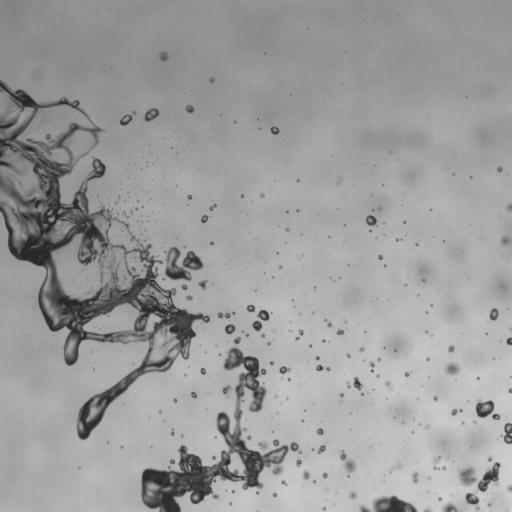droplet: (457, 462, 500, 511), (475, 398, 500, 420), (340, 451, 355, 474), (346, 377, 364, 395), (444, 362, 460, 375), (432, 456, 446, 470), (144, 108, 159, 121), (365, 215, 377, 225), (224, 324, 235, 334), (489, 308, 498, 320), (279, 366, 290, 374), (411, 471, 418, 483), (501, 236, 510, 245), (222, 385, 230, 395), (451, 408, 462, 415), (185, 105, 194, 113), (198, 280, 206, 289), (302, 470, 310, 479), (271, 126, 279, 134), (247, 304, 255, 312), (317, 445, 325, 453), (385, 381, 392, 390), (160, 52, 167, 60), (349, 491, 356, 499), (201, 215, 208, 222), (337, 328, 344, 335), (316, 428, 323, 435), (209, 204, 216, 210), (181, 283, 187, 290), (448, 345, 454, 352), (506, 203, 511, 211), (506, 337, 511, 345), (200, 368, 206, 374), (191, 392, 197, 398), (296, 459, 301, 466), (507, 484, 511, 492), (186, 295, 192, 300), (487, 455, 492, 461), (322, 472, 327, 478), (497, 167, 502, 172), (281, 480, 286, 485), (18, 181, 22, 186), (259, 193, 264, 197), (260, 333, 265, 337), (359, 347, 364, 351), (404, 372, 409, 376), (424, 425, 429, 429), (508, 387, 511, 393), (171, 429, 174, 435), (210, 78, 214, 82), (187, 195, 191, 199), (378, 255, 382, 259), (267, 341, 271, 345), (346, 353, 350, 357), (315, 356, 319, 360), (339, 393, 343, 397), (433, 396, 437, 400), (173, 398, 177, 402), (285, 228, 289, 231), (278, 265, 282, 268), (270, 361, 274, 364), (438, 497, 441, 501), (487, 503, 491, 506), (323, 507, 326, 511), (378, 207, 381, 210), (210, 241, 213, 244), (426, 357, 429, 360), (212, 456, 215, 459), (446, 456, 449, 459), (273, 493, 276, 496), (509, 327, 511, 331), (397, 238, 400, 240), (322, 339, 324, 342), (377, 358, 380, 360), (473, 421, 476, 423), (120, 446, 123, 448), (428, 476, 430, 479), (313, 480, 315, 483), (42, 120, 44, 122), (297, 179, 299, 181), (135, 207, 137, 209), (131, 210, 133, 212), (422, 279, 424, 281), (477, 377, 479, 379)
ligament: (0, 80, 209, 439), (141, 337, 301, 511), (358, 495, 417, 511), (252, 309, 271, 330), (120, 111, 136, 125), (502, 422, 511, 443), (441, 502, 460, 511), (217, 312, 235, 318), (389, 463, 401, 472), (295, 329, 303, 340), (316, 365, 330, 371), (324, 319, 332, 327), (369, 361, 374, 371), (122, 211, 128, 217), (423, 507, 431, 511), (242, 331, 248, 336)
